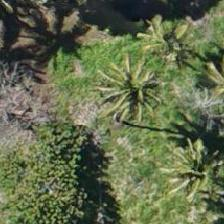coconut_tree: (87, 44, 177, 134), (150, 125, 223, 215)
